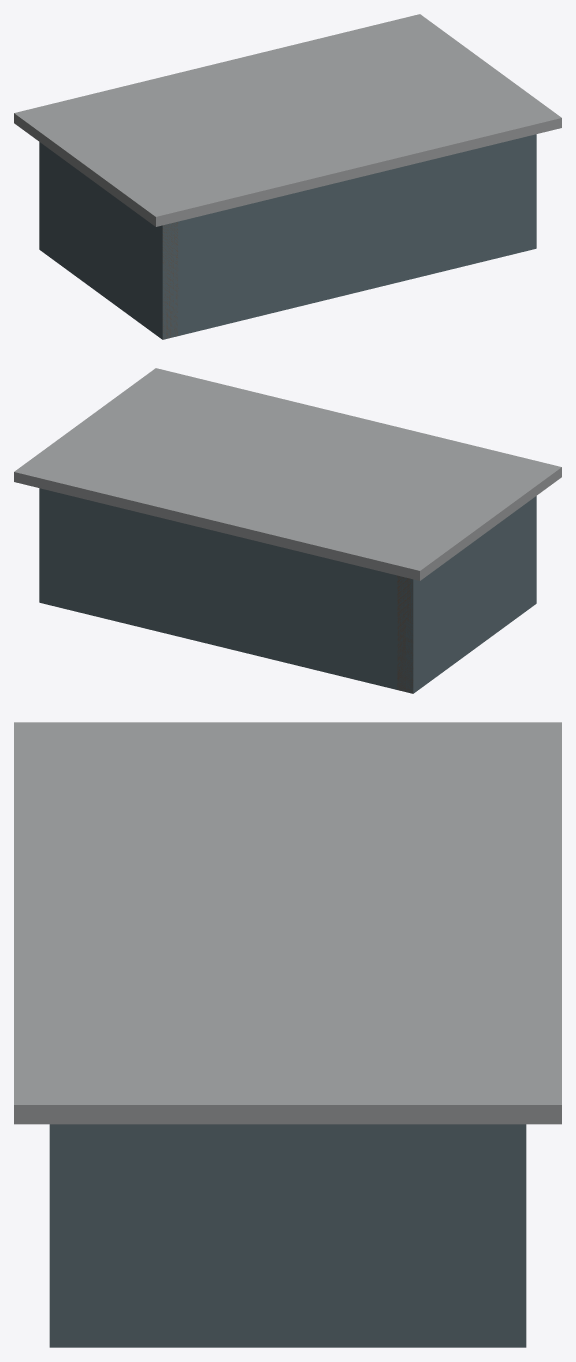
Rendered from kitchen-pavilion.glb.
The picture shows the model from 3 angles, top to bottom: view 1: azimuth 30°, elevation 25°; view 2: azimuth 150°, elevation 25°; view 3: azimuth 270°, elevation 25°; orthographic projection. The views are drawn at different scales.
Visible parts, largest first — view 1: geometry_1, geometry_0, geometry_2; view 2: geometry_1, geometry_0, geometry_2; view 3: geometry_1, geometry_0.
Part boxes in pixels (box(x1,y1,x2,y2)): geometry_1: box(14, 14, 561, 226); geometry_0: box(39, 134, 536, 339); geometry_2: box(162, 222, 178, 339); geometry_1: box(14, 368, 561, 580); geometry_0: box(39, 488, 536, 693); geometry_2: box(397, 575, 413, 693); geometry_1: box(14, 722, 561, 1124); geometry_0: box(49, 1124, 526, 1347).
Bounding box in the file's own units: 7.6 × 2.39 × 4.6.
